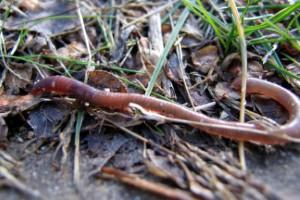earthworms: (23, 35, 294, 157)
